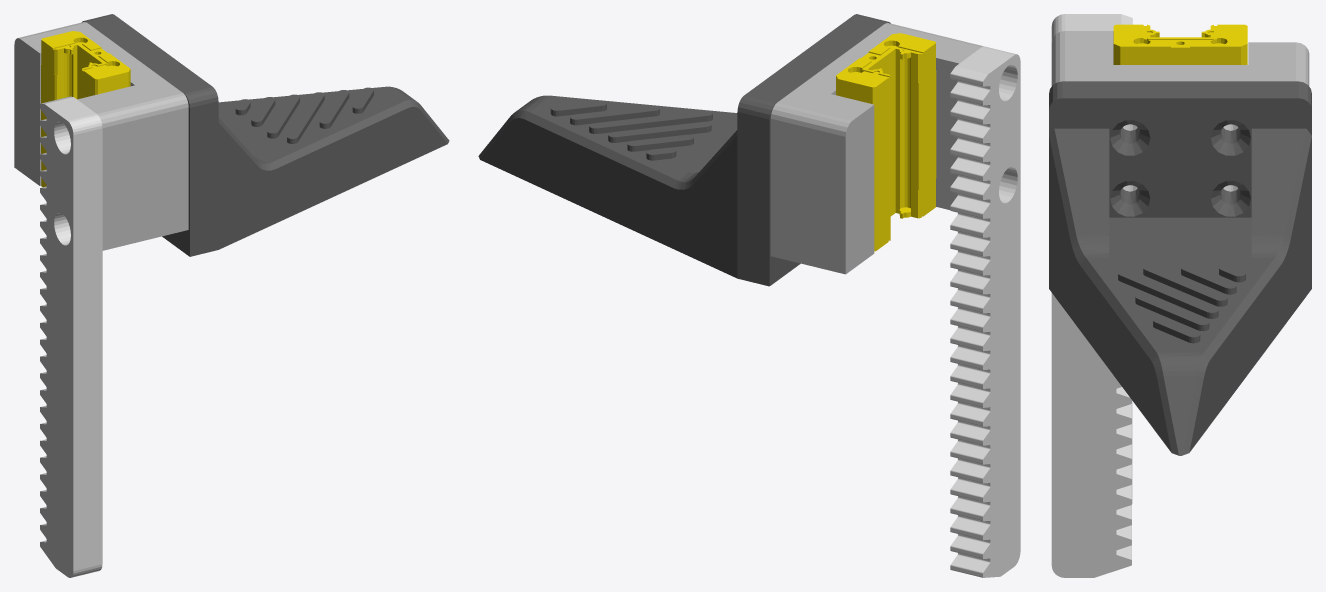
Rendered from finger_left_link.glb.
3 renders of one model, left to right at view 1: azimuth 30°, elevation 25°; view 2: azimuth 150°, elevation 25°; view 3: azimuth 270°, elevation 25°, orthographic. The views are drawn at different scales.
Parts seen in each view (by area): view 1: colored_left_finger_finger_black, colored_left_finger_rack_metal, colored_left_finger_carriage_grey, colored_left_finger_travel_stop_yellow; view 2: colored_left_finger_finger_black, colored_left_finger_rack_metal, colored_left_finger_carriage_grey, colored_left_finger_travel_stop_yellow; view 3: colored_left_finger_finger_black, colored_left_finger_rack_metal, colored_left_finger_carriage_grey, colored_left_finger_travel_stop_yellow.
Part boxes in pixels (left/top/right/bottom): colored_left_finger_finger_black: left=82, top=14, right=449, bottom=256; colored_left_finger_rack_metal: left=40, top=96, right=102, bottom=577; colored_left_finger_carriage_grey: left=14, top=21, right=188, bottom=250; colored_left_finger_travel_stop_yellow: left=41, top=31, right=130, bottom=187; colored_left_finger_finger_black: left=478, top=14, right=890, bottom=286; colored_left_finger_rack_metal: left=950, top=46, right=1020, bottom=577; colored_left_finger_carriage_grey: left=770, top=23, right=983, bottom=274; colored_left_finger_travel_stop_yellow: left=836, top=33, right=936, bottom=251; colored_left_finger_finger_black: left=1049, top=81, right=1311, bottom=455; colored_left_finger_rack_metal: left=1051, top=14, right=1132, bottom=577; colored_left_finger_carriage_grey: left=1051, top=31, right=1309, bottom=191; colored_left_finger_travel_stop_yellow: left=1113, top=24, right=1247, bottom=64.
Bounding box in the file's own units: 0.0886 × 0.0929 × 0.0392.
